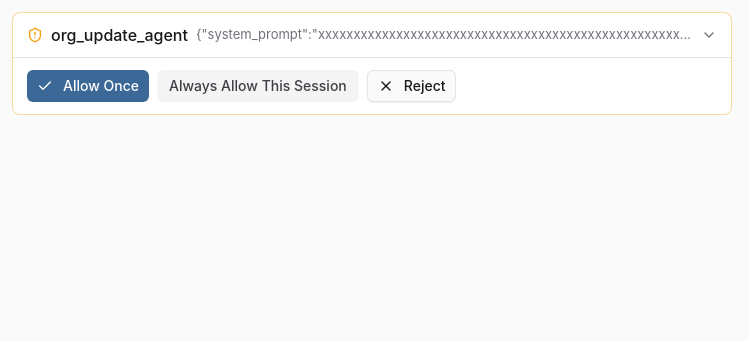
Scenario: ToolPermissionCard JSON input › Given an expanded card, When collapsed, Then the input JSON stays mounted through the collapse transition and unmounts after it ends
Click the button that starts with "org_update_agent".
click(372, 35)  # box left=13, top=13, right=731, bottom=57
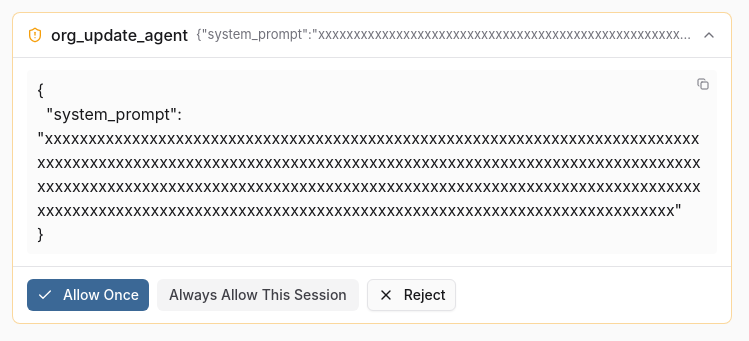
Now the button that starts with "org_update_agent" is expanded
Now the text "system_prompt" is shown, box left=37, top=80, right=701, bottom=244
Click the button that starts with "org_update_agent".
click(372, 35)  # box left=13, top=13, right=731, bottom=57
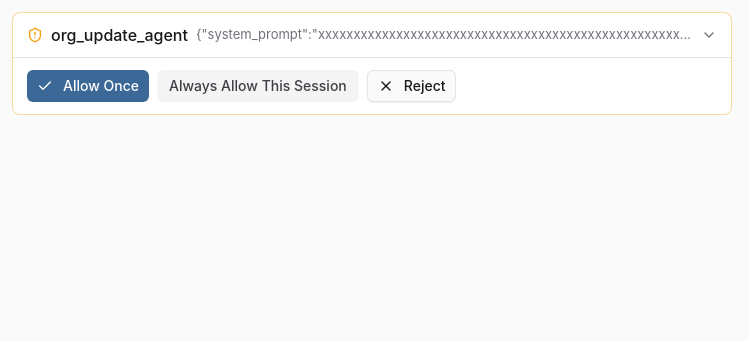
Now the button that starts with "org_update_agent" is collapsed, box left=13, top=13, right=731, bottom=57
